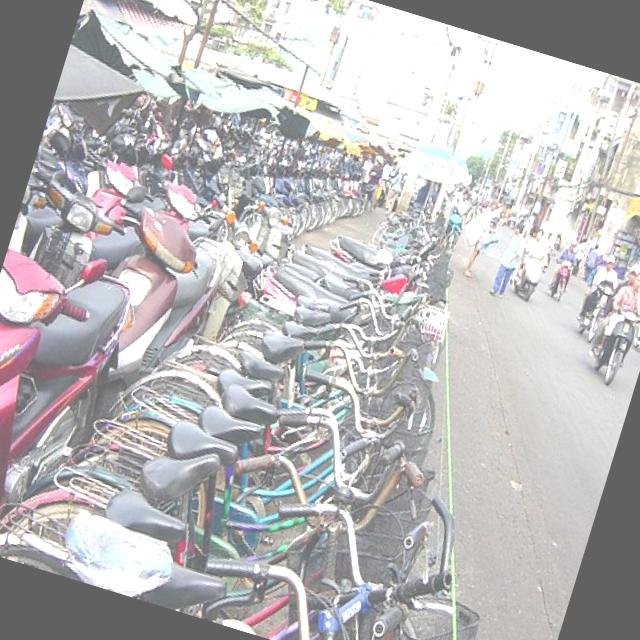Vehicle: (8, 57, 640, 425), (59, 194, 241, 418), (0, 263, 137, 545), (0, 228, 108, 561), (13, 170, 146, 295), (132, 147, 241, 247), (190, 178, 282, 280), (322, 213, 431, 285), (68, 144, 154, 230), (591, 304, 640, 391), (268, 164, 322, 238), (243, 198, 295, 255), (512, 245, 548, 304), (546, 258, 576, 304)
